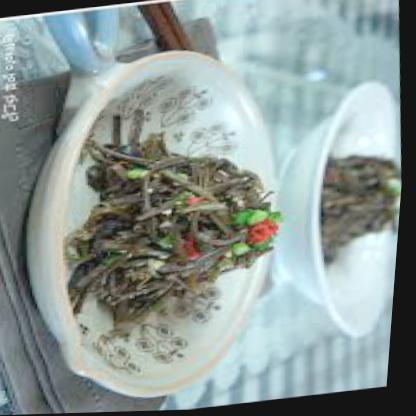seasoned bracken: (74, 134, 295, 315), (311, 143, 406, 264)
